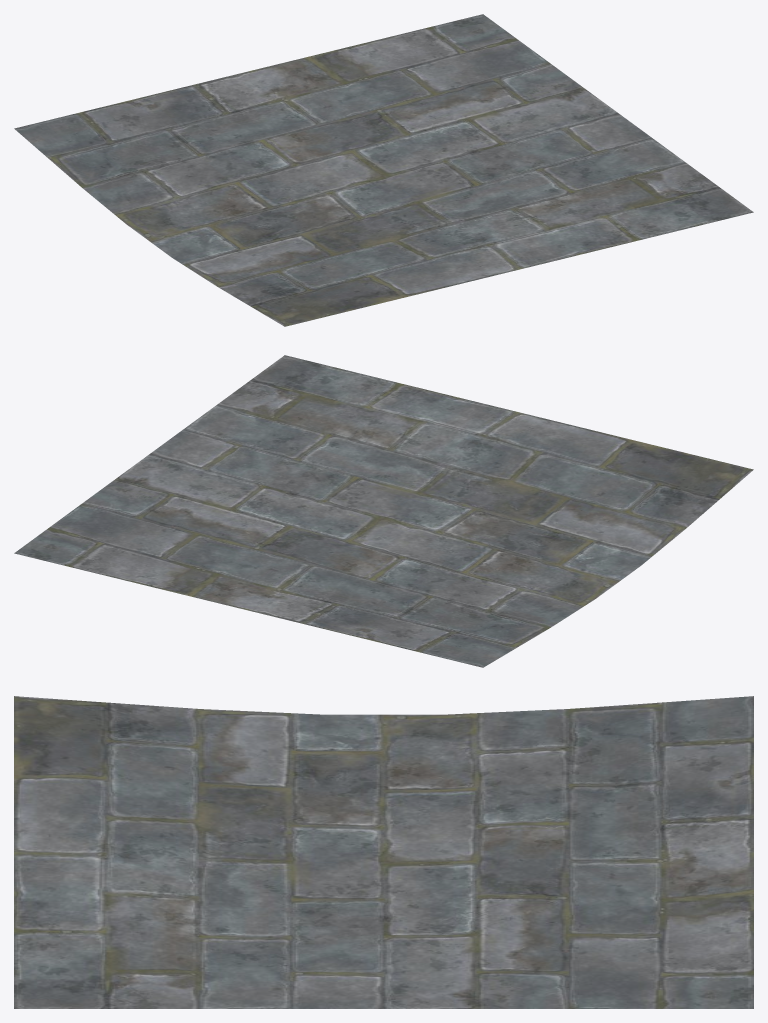
File: SM_Crypt_Floor_Concave_End_B.glb
3 views of the same model, one above another, from view 1: azimuth 30°, elevation 25°; view 2: azimuth 150°, elevation 25°; view 3: azimuth 270°, elevation 25° (orthographic). The views are drawn at different scales.
Visible parts, largest first — view 1: SM_Crypt_Floor_Concave_End_B; view 2: SM_Crypt_Floor_Concave_End_B; view 3: SM_Crypt_Floor_Concave_End_B.
Boxes of the visible parts, bbox=[...] form: SM_Crypt_Floor_Concave_End_B: bbox=[14, 14, 753, 326]; SM_Crypt_Floor_Concave_End_B: bbox=[14, 355, 753, 667]; SM_Crypt_Floor_Concave_End_B: bbox=[14, 696, 753, 1008].
Size of the model in its own units: 5 by 0.1378 by 5.
1 material, 1 textured.
